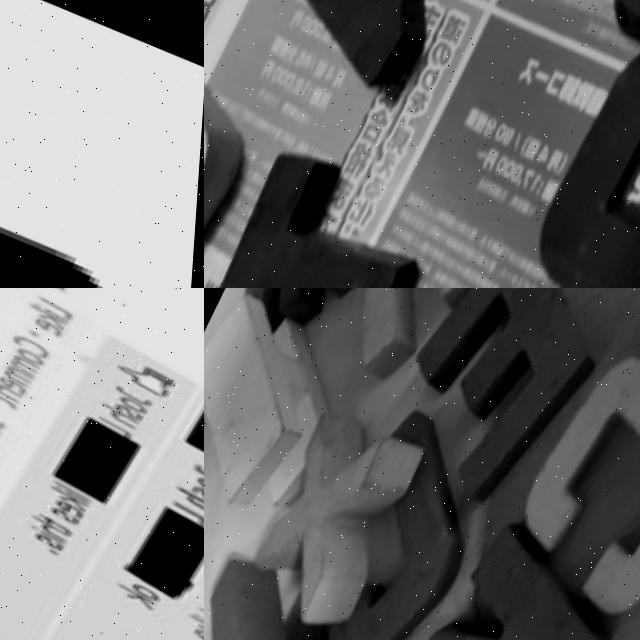A: (503, 17, 640, 288)
C: (501, 341, 640, 614)
E: (357, 288, 640, 532)
K: (365, 523, 640, 640)
M: (209, 288, 406, 357)
N: (229, 0, 547, 119)
Q: (204, 42, 286, 288)
R: (296, 288, 530, 398)
T: (204, 152, 460, 288)
U: (0, 56, 175, 288)
V: (204, 553, 336, 640)
X: (233, 404, 445, 640)
